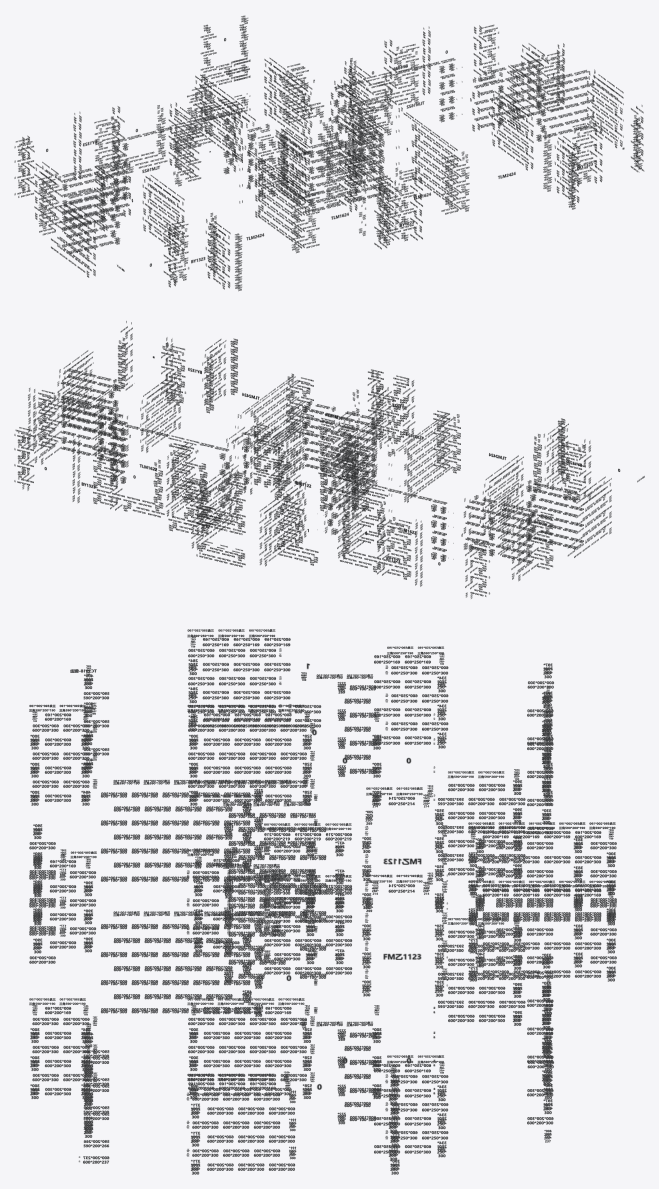
Rendered from labels.glb.
3 renders of one model, top to bottom at view 1: azimuth 30°, elevation 25°; view 2: azimuth 150°, elevation 25°; view 3: azimuth 270°, elevation 25°, orthographic. The views are drawn at different scales.
Visible parts, largest first — view 1: L_F02; view 2: L_F02; view 3: L_F02.
Part boxes in pixels (bbox=[...]): L_F02: bbox=[14, 24, 644, 291]; L_F02: bbox=[14, 321, 644, 598]; L_F02: bbox=[29, 629, 616, 1174].
Bounding box in the file's own units: 20.8 × 3.61 × 12.36.
1 material, 1 textured.
